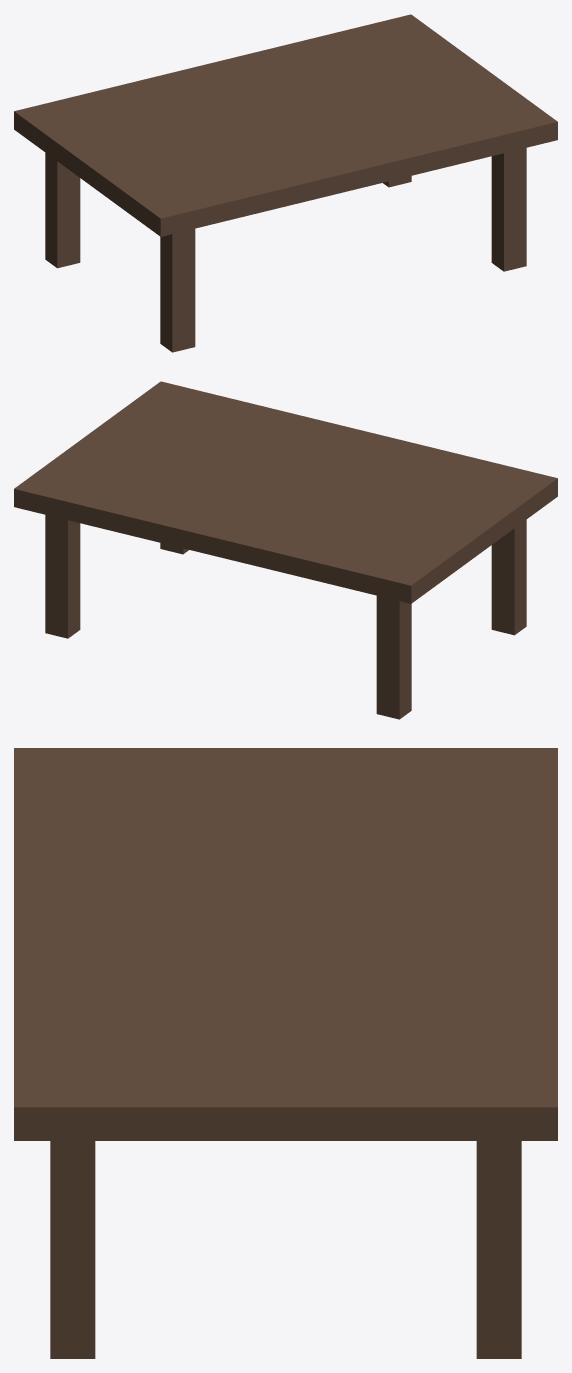
The model's file is Table.fbx.
The picture shows the model from 3 angles, top to bottom: view 1: azimuth 30°, elevation 25°; view 2: azimuth 150°, elevation 25°; view 3: azimuth 270°, elevation 25°; orthographic projection. The views are drawn at different scales.
Parts seen in each view (by area): view 1: Cube.007; view 2: Cube.007; view 3: Cube.007.
Boxes of the visible parts, left/top/right/bottom form: Cube.007: left=14, top=14, right=557, bottom=352; Cube.007: left=14, top=381, right=557, bottom=719; Cube.007: left=14, top=748, right=557, bottom=1358.
Bounding box in the file's own units: 301 × 106 × 193.
